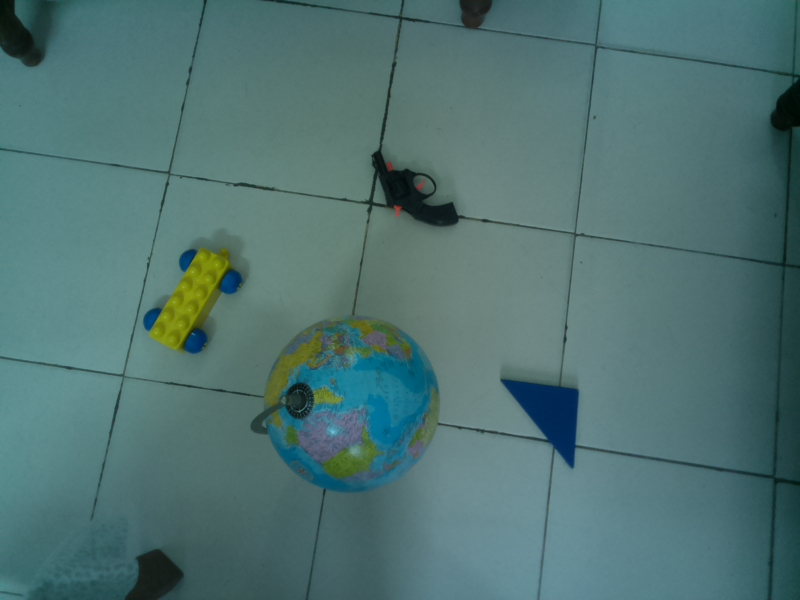Gun: (368, 147, 462, 231)
Triangle: (497, 375, 581, 472)
toy_Car: (140, 245, 245, 357)
